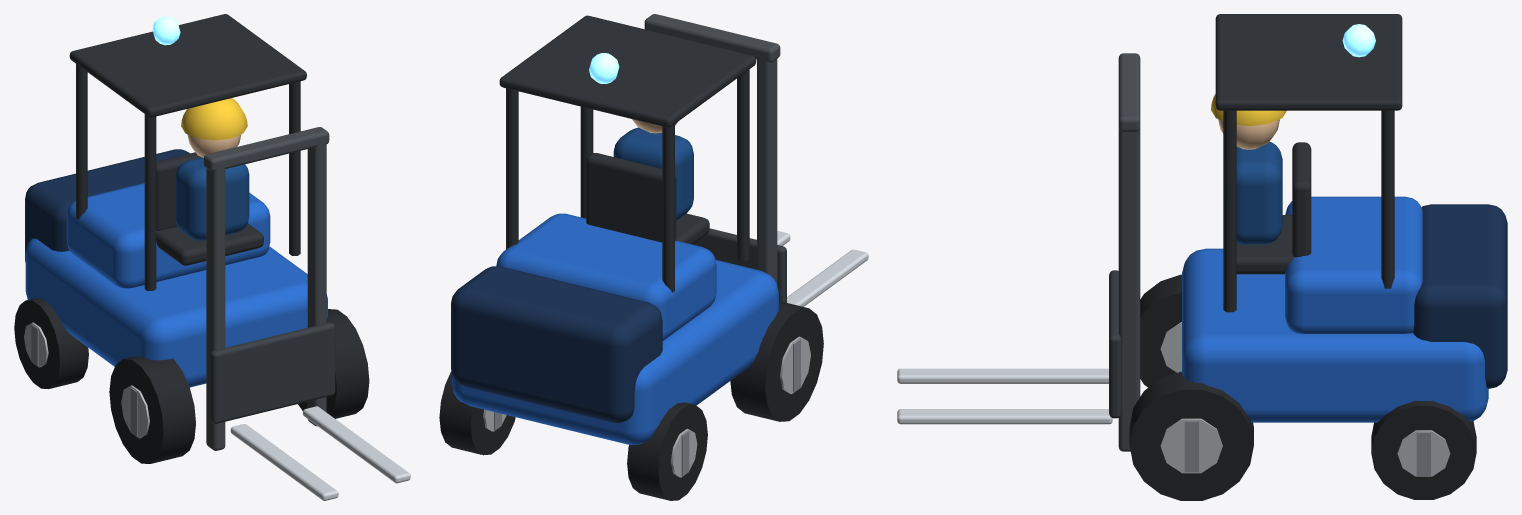
The model's file is porter.glb.
3 renders of one model, left to right at view 1: azimuth 30°, elevation 25°; view 2: azimuth 150°, elevation 25°; view 3: azimuth 270°, elevation 25°, orthographic. The views are drawn at different scales.
Bounding box in the file's own units: 1.17 × 1.93 × 2.55.
